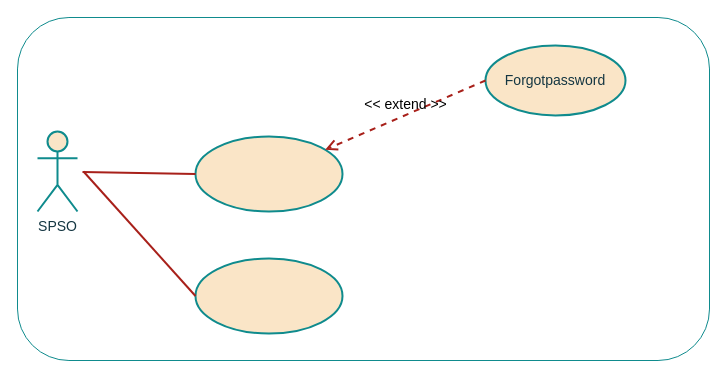
Image size: 727x378. Some labels were removed from this diagram. Each missing label, with the centre of its shape:
"Login" belongs at point 268,173.
"Logout" belongs at point 268,295.
